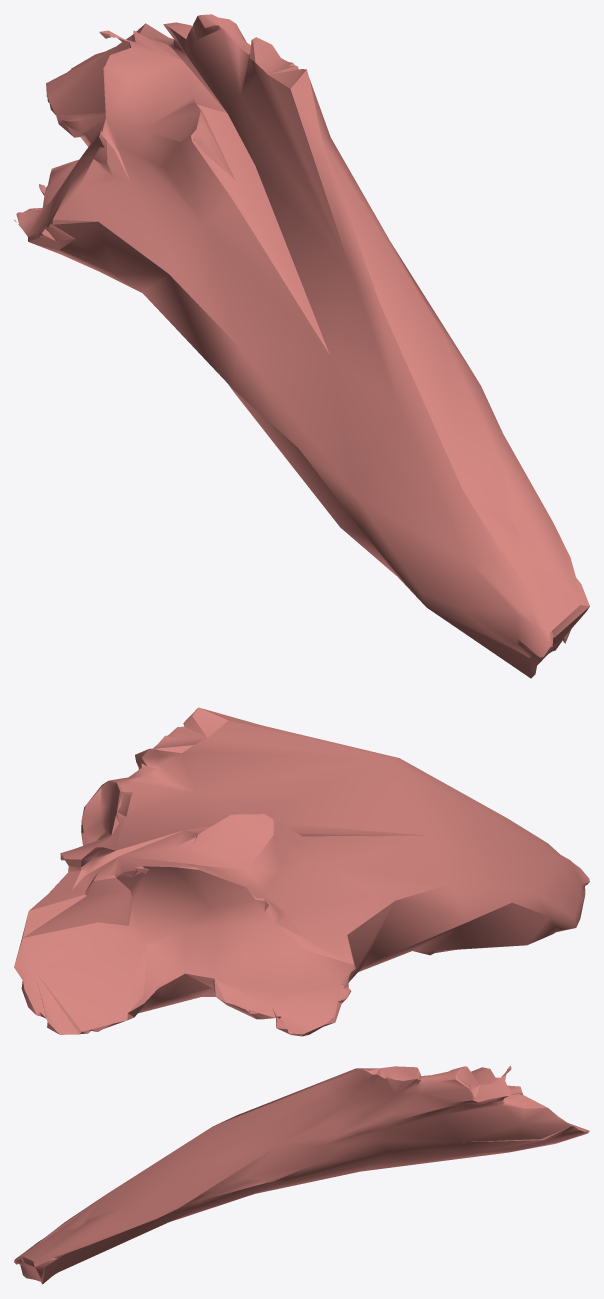
Rendered from fma46018_fj1398.glb.
3 renders of one model, top to bottom at view 1: azimuth 30°, elevation 25°; view 2: azimuth 150°, elevation 25°; view 3: azimuth 270°, elevation 25°, orthographic. The views are drawn at different scales.
Visible parts, largest first — view 1: FMA46018_FJ1398; view 2: FMA46018_FJ1398; view 3: FMA46018_FJ1398.
Part boxes in pixels (x1=…): FMA46018_FJ1398: x1=14, y1=14, x2=589, y2=678; FMA46018_FJ1398: x1=14, y1=707, x2=589, y2=1036; FMA46018_FJ1398: x1=14, y1=1066, x2=589, y2=1284.
Bounding box in the file's own units: 0.0178 × 0.0289 × 0.0664.
